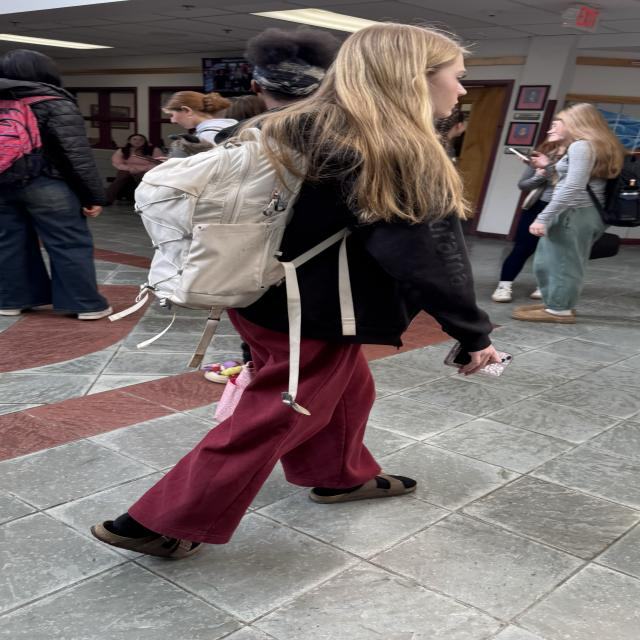pen: (444, 341, 514, 377), (132, 155, 168, 166), (509, 148, 534, 162)
